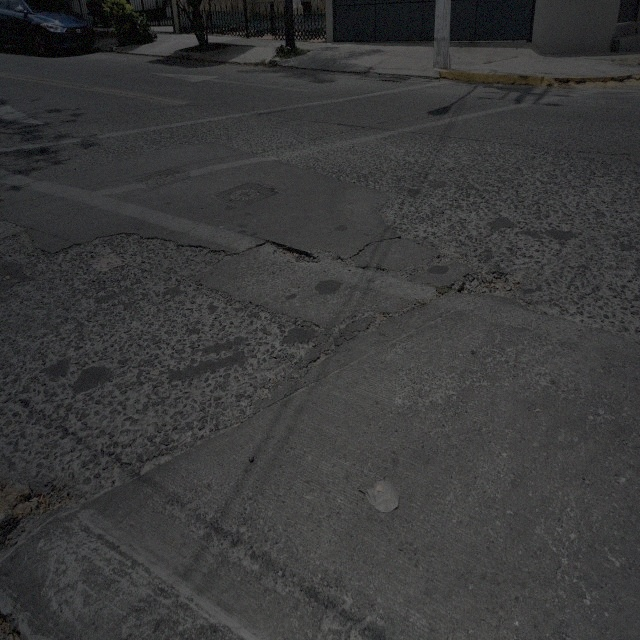pothole: (7, 481, 72, 535), (252, 234, 314, 275), (449, 268, 524, 299), (138, 452, 173, 477)
